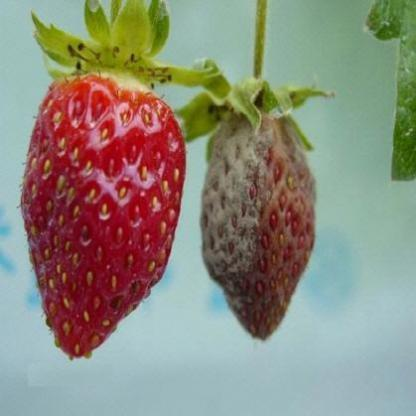Strawberry_Gray_Mold: (198, 106, 318, 341)
